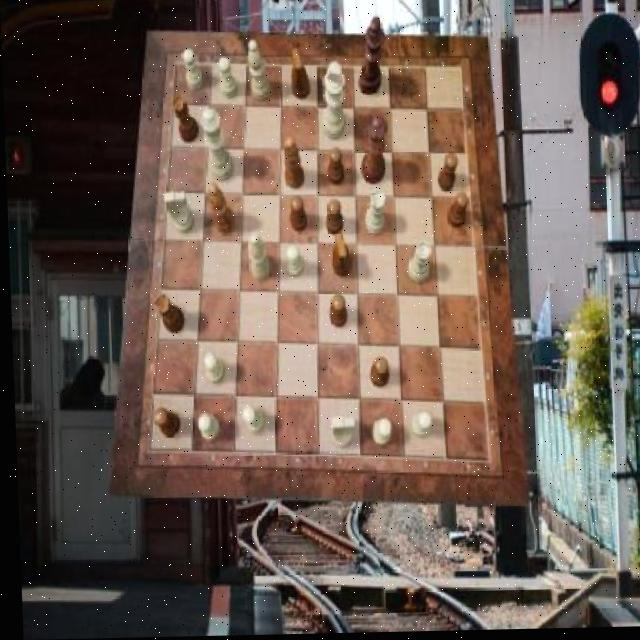bishop: (207, 184, 233, 237), (281, 140, 303, 192)
black-bishop: (356, 20, 386, 99)
black-king: (290, 50, 311, 101), (328, 232, 350, 278)
black-knight: (445, 193, 469, 230), (149, 408, 176, 438), (436, 155, 457, 193), (287, 196, 305, 233), (325, 150, 343, 186), (323, 202, 341, 237), (367, 358, 387, 389), (327, 296, 345, 330)
black-pawn: (358, 116, 389, 186)
black-queen: (171, 97, 198, 145), (151, 294, 182, 333)
black-rook: (247, 40, 271, 102), (246, 234, 268, 282)
white-bishop: (319, 63, 346, 141)
white-king: (162, 192, 193, 235), (327, 419, 352, 452)
white-knight: (216, 59, 237, 101), (182, 50, 203, 92), (200, 353, 222, 386), (238, 406, 262, 434), (194, 415, 218, 443), (405, 413, 428, 439), (284, 247, 302, 280), (366, 420, 387, 448)
white-pawn: (197, 108, 232, 183)
white-queen: (404, 243, 430, 285), (362, 190, 384, 236)
